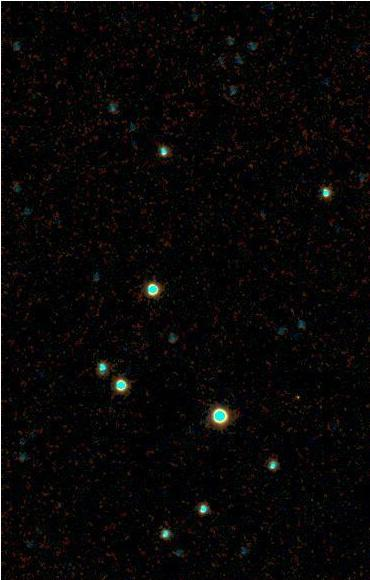star: (236, 149, 266, 179)
